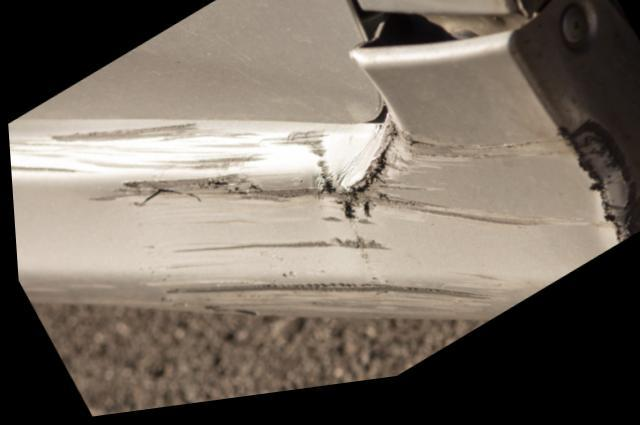scratch: (6, 122, 640, 327)
